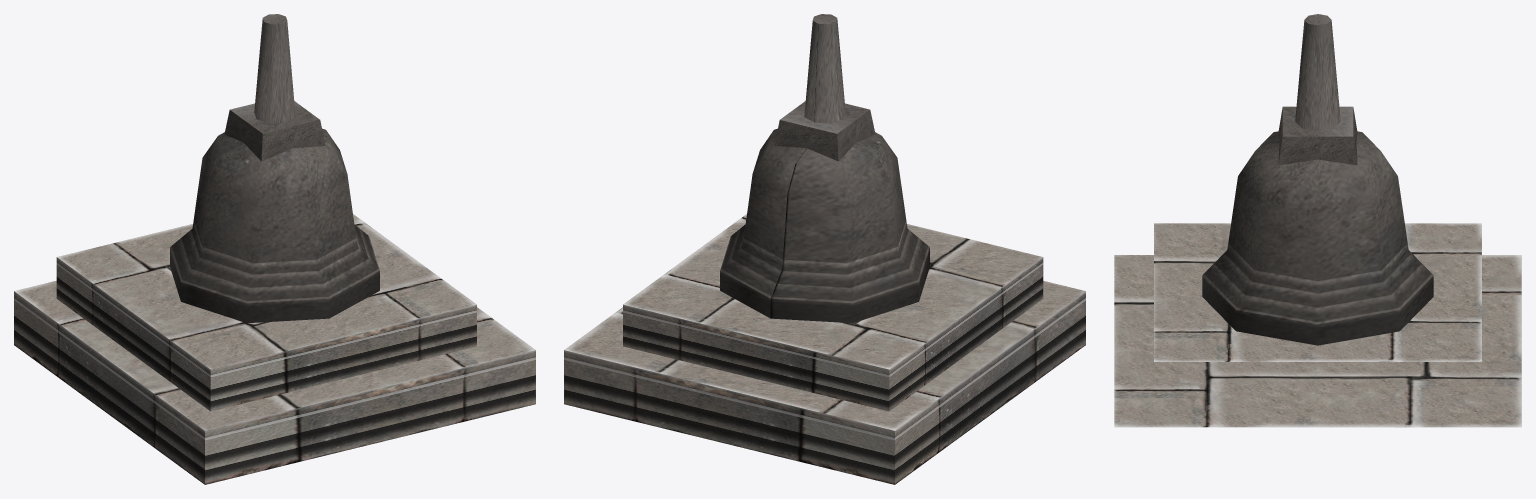
File: Gate_H.FBX
The picture shows the model from 3 angles, left to right: view 1: azimuth 30°, elevation 25°; view 2: azimuth 150°, elevation 25°; view 3: azimuth 270°, elevation 25°; orthographic projection. The views are drawn at different scales.
Visible parts, largest first — view 1: Gate_H; view 2: Gate_H; view 3: Gate_H.
Boxes of the visible parts, left/top/right/bottom form: Gate_H: left=14, top=14, right=535, bottom=484; Gate_H: left=564, top=14, right=1085, bottom=484; Gate_H: left=1114, top=14, right=1521, bottom=427.
Size of the model in its own units: 1.31 by 1.35 by 1.31.
